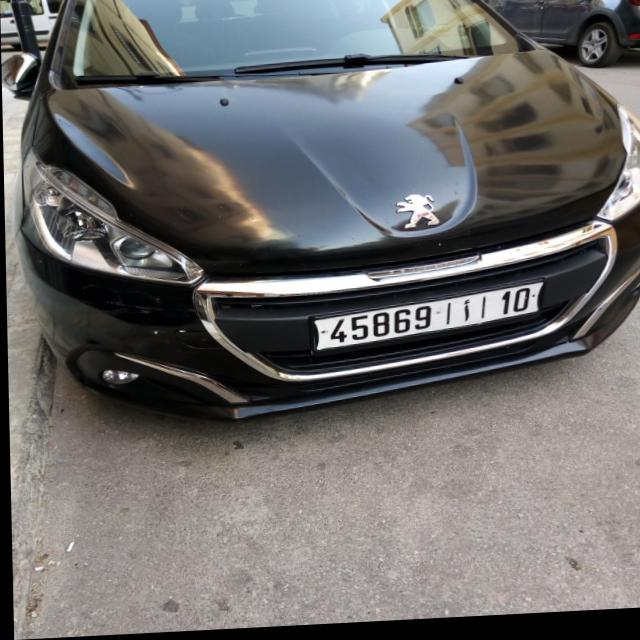License-Plate: (313, 289, 542, 354)
